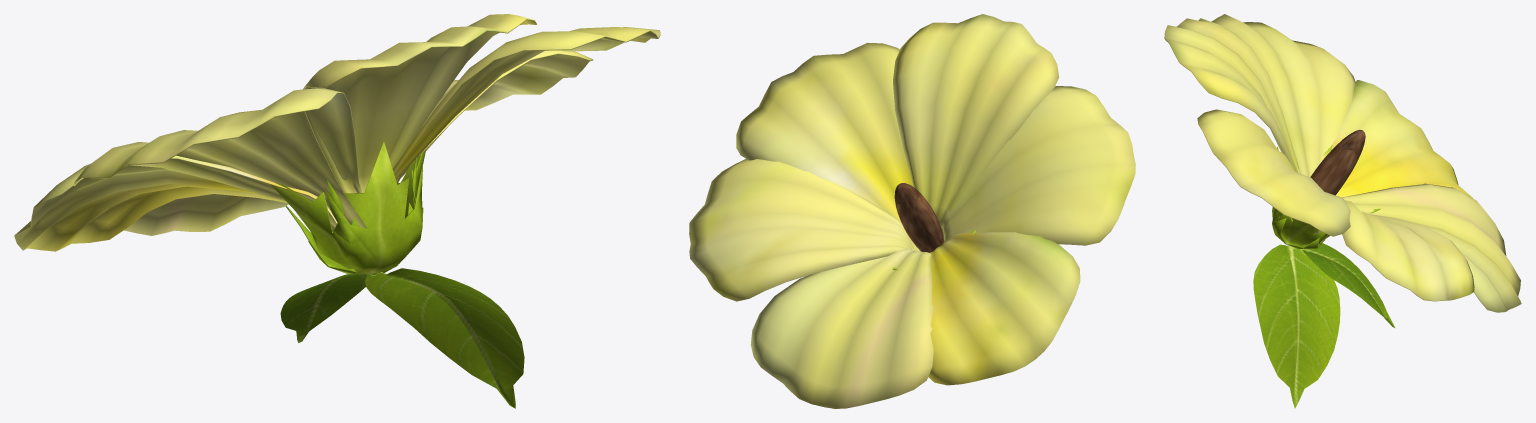
The model's file is f_algodon.glb.
3 renders of one model, left to right at view 1: azimuth 30°, elevation 25°; view 2: azimuth 150°, elevation 25°; view 3: azimuth 270°, elevation 25°, orthographic. The views are drawn at different scales.
Visible parts, largest first — view 1: Circle.001; view 2: Circle.001; view 3: Circle.001.
Part boxes in pixels (x1=…): Circle.001: x1=14, y1=14, x2=660, y2=408; Circle.001: x1=689, y1=14, x2=1135, y2=408; Circle.001: x1=1164, y1=14, x2=1521, y2=408.
Size of the model in its own units: 1.54 by 1.26 by 1.25.
1 material, 1 textured.
